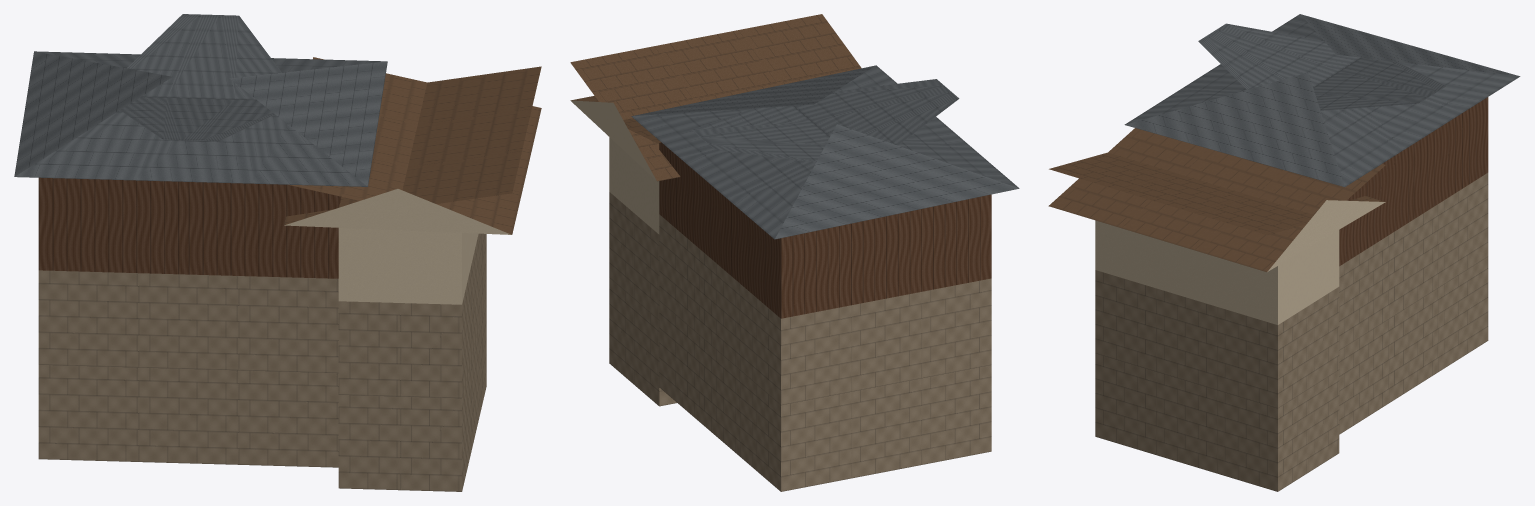
File: bld_c22_43_371.gltf
The picture shows the model from 3 angles, left to right: view 1: azimuth 30°, elevation 25°; view 2: azimuth 150°, elevation 25°; view 3: azimuth 270°, elevation 25°; orthographic projection. The views are drawn at different scales.
Visible parts, largest first — view 1: bld_c22_43_371; view 2: bld_c22_43_371; view 3: bld_c22_43_371.
Boxes of the visible parts, box(x1,y1,x2,y2) form: bld_c22_43_371: box(14, 14, 541, 491); bld_c22_43_371: box(570, 14, 1019, 491); bld_c22_43_371: box(1048, 14, 1520, 491).
Bounding box in the file's own units: 12.8 × 8.5 × 11.55.
Materials: 6 (6 with a texture image).
